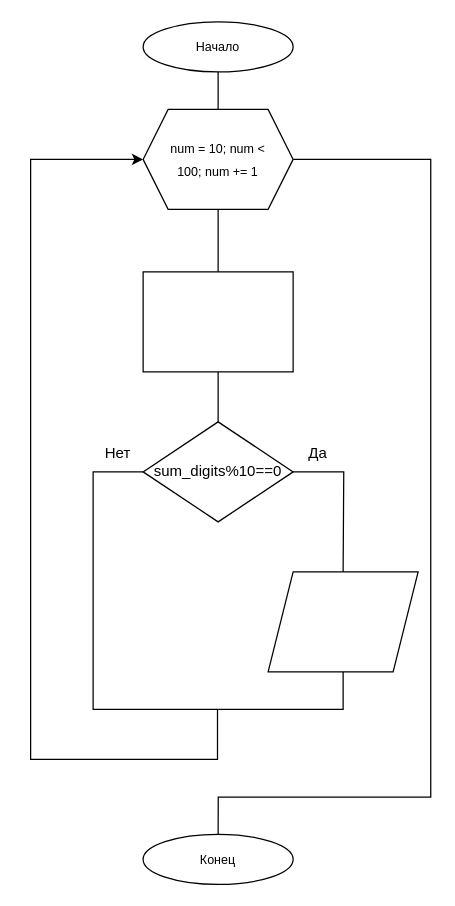
This 455x906 diagram has some shape labels left out. Each missing label, with the box of its shape:
sum_digits = (num%10)**2 + (num//10)**2: (142, 271, 293, 372)
Вывод num: (267, 571, 418, 672)
